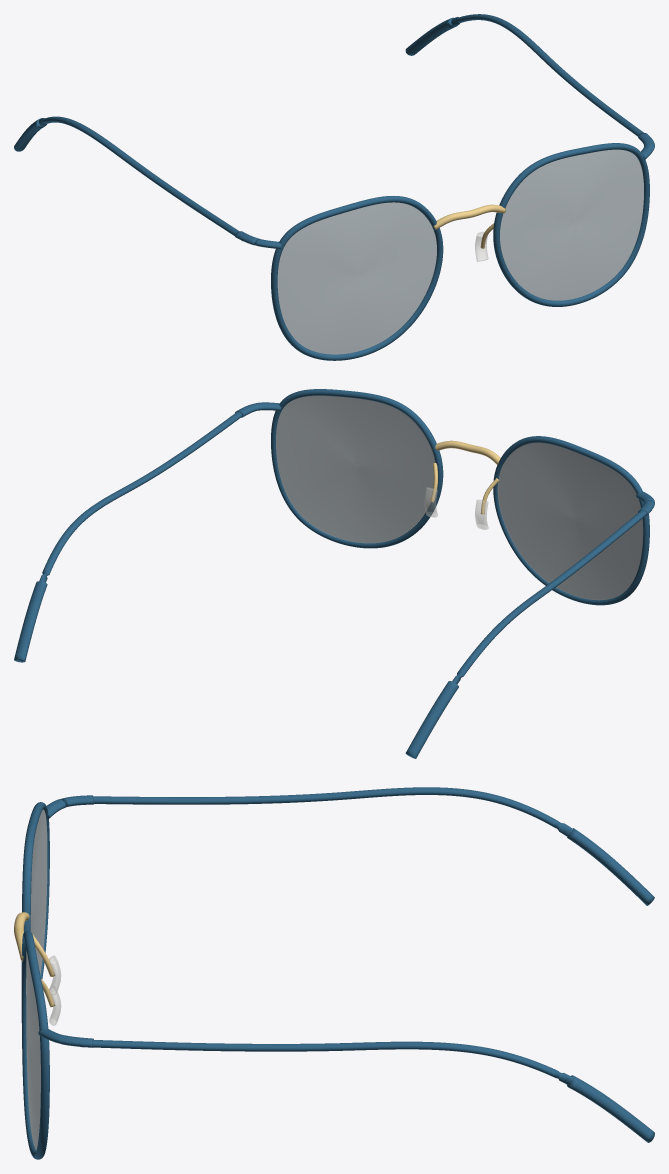
The model's file is prod-r9.glb.
The picture shows the model from 3 angles, top to bottom: view 1: azimuth 30°, elevation 25°; view 2: azimuth 150°, elevation 25°; view 3: azimuth 270°, elevation 25°; orthographic projection. The views are drawn at different scales.
Visible parts, largest first — view 1: Optical lens -1, Optical lens 1, Frame rim -1, Frame rim 1, Thin temple -1, Thin temple 1, Temple tip 1, Bridge; view 2: Optical lens 1, Optical lens -1, Frame rim 1, Frame rim -1, Thin temple 1, Thin temple -1, Temple tip -1, Temple tip 1, Bridge; view 3: Thin temple 1, Thin temple -1, Frame rim 1, Optical lens 1, Optical lens -1, Frame rim -1, Temple tip 1, Temple tip -1, Hinge 1.
Boxes of the visible parts, <box> form: Optical lens -1: <box>277,202,436,354</box>; Optical lens 1: <box>500,149,643,300</box>; Frame rim -1: <box>271,196,443,360</box>; Frame rim 1: <box>493,143,649,306</box>; Thin temple -1: <box>39,116,242,241</box>; Thin temple 1: <box>451,14,643,136</box>; Temple tip 1: <box>405,17,457,55</box>; Bridge: <box>433,204,505,229</box>; Optical lens 1: <box>276,395,435,543</box>; Optical lens -1: <box>497,442,643,600</box>; Frame rim 1: <box>271,389,443,548</box>; Frame rim -1: <box>493,436,649,605</box>; Thin temple 1: <box>17,412,242,661</box>; Thin temple -1: <box>409,509,651,757</box>; Temple tip -1: <box>405,681,458,758</box>; Temple tip 1: <box>14,581,47,662</box>; Bridge: <box>432,440,500,464</box>; Thin temple 1: <box>79,1040,572,1084</box>; Thin temple -1: <box>93,787,572,836</box>; Frame rim 1: <box>21,931,49,1159</box>; Optical lens 1: <box>26,951,40,1150</box>; Optical lens -1: <box>30,809,47,974</box>; Frame rim -1: <box>22,802,49,979</box>; Temple tip 1: <box>567,1075,654,1142</box>; Temple tip -1: <box>567,828,654,905</box>; Hinge 1: <box>38,1029,93,1047</box>.
Bounding box in the file's own units: 0.1365 × 0.0472 × 0.1425.
